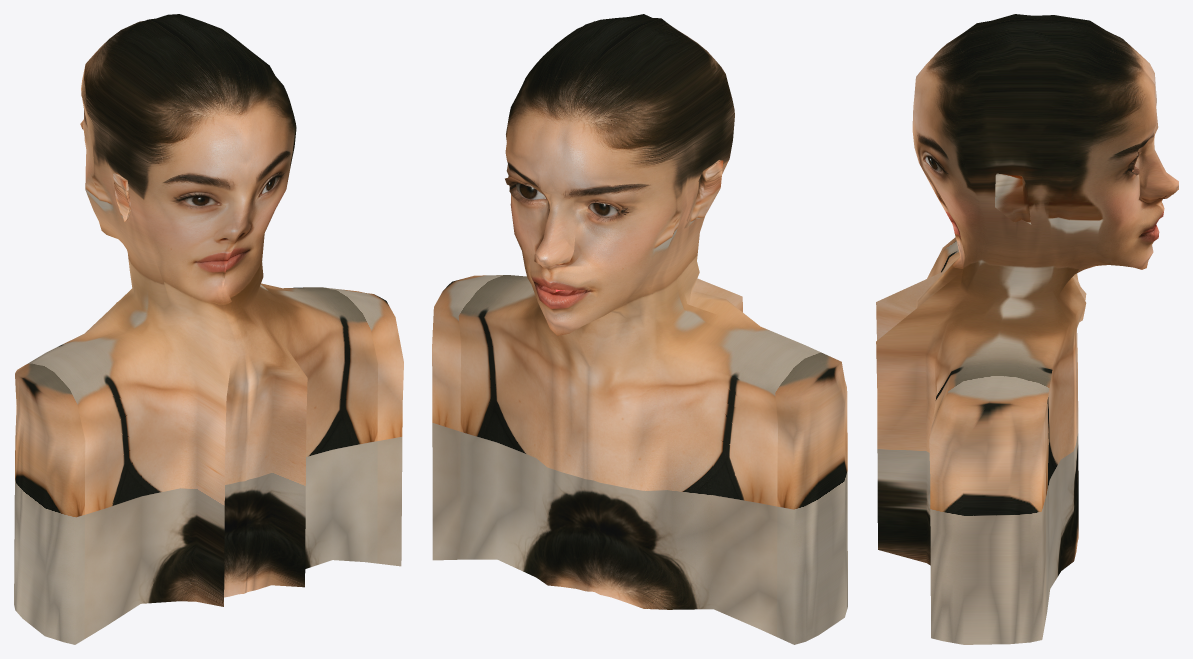
File: avatar.glb
3 views of the same model, side by side, from view 1: azimuth 30°, elevation 25°; view 2: azimuth 150°, elevation 25°; view 3: azimuth 270°, elevation 25° (orthographic). The views are drawn at different scales.
Visible parts, largest first — view 1: Cube; view 2: Cube, Sphere; view 3: Cube.
Part boxes in pixels (x1,y1,x2,y2): Cube: (14, 14, 403, 644); Cube: (432, 14, 847, 644); Sphere: (516, 183, 617, 218); Cube: (876, 14, 1178, 644).
Bounding box in the file's own units: 4.22 × 6.1 × 3.11.
Materials: 4 (2 with a texture image).
